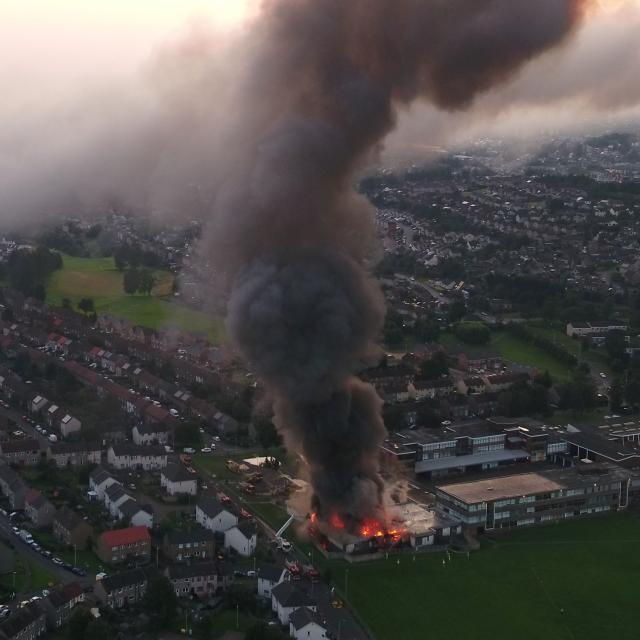Fire: (292, 500, 414, 556)
Smoke: (173, 0, 588, 555)
